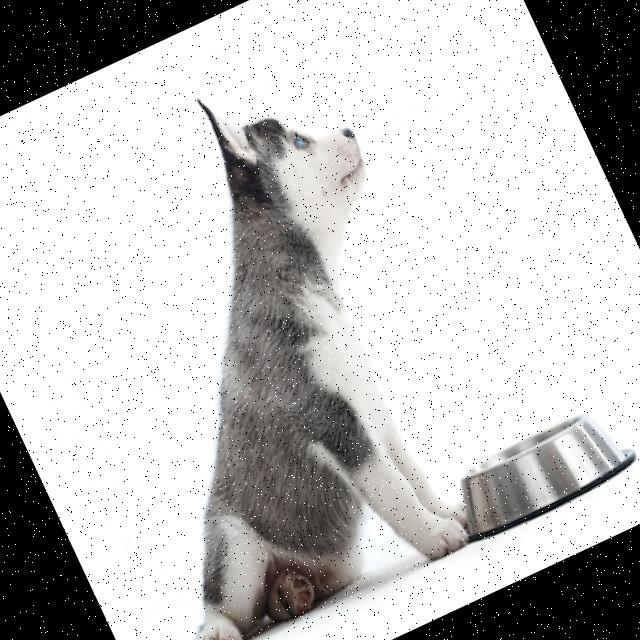Dog: (0, 41, 532, 640)
